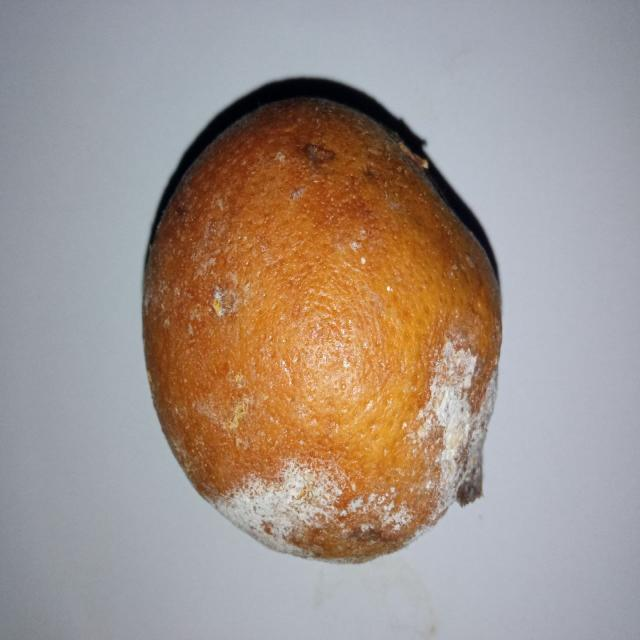rotten_orange: (140, 92, 498, 567)
